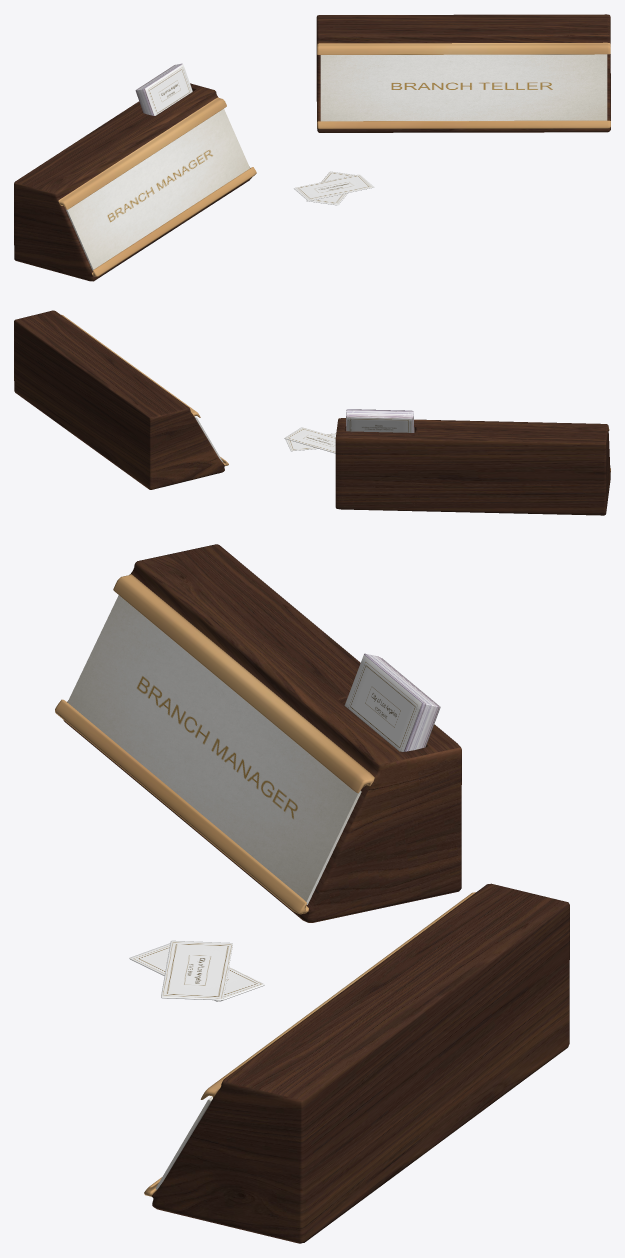
Rendered from Robbers_T3ANI210_DeskNamePlaque_Abdilla.fbx.
3 views of the same model, one above another, from view 1: azimuth 30°, elevation 25°; view 2: azimuth 150°, elevation 25°; view 3: azimuth 270°, elevation 25° (orthographic). The views are drawn at different scales.
Visible parts, largest first — view 1: NameBadge_3, NameHolder_2, NameHolder_1, NameBadge_1, BuisnessCard_Stack, BuisnessCard_3, BuisnessCard_2; view 2: NameHolder_1, NameHolder_2, BuisnessCard_Stack, BuisnessCard_3; view 3: NameHolder_2, NameHolder_1, NameBadge_1, BuisnessCard_Stack, BuisnessCard_3, BuisnessCard_2.
Part boxes in pixels (<box>): NameBadge_3: <box>320,54,607,121</box>; NameHolder_2: <box>316,14,610,132</box>; NameHolder_1: <box>14,83,256,281</box>; NameBadge_1: <box>65,109,249,270</box>; BuisnessCard_Stack: <box>135,63,192,115</box>; BuisnessCard_3: <box>293,174,374,200</box>; BuisnessCard_2: <box>306,171,355,205</box>; NameHolder_1: <box>335,418,610,515</box>; NameHolder_2: <box>14,310,228,489</box>; BuisnessCard_Stack: <box>346,409,414,432</box>; BuisnessCard_3: <box>284,427,335,453</box>; NameHolder_2: <box>144,883,569,1243</box>; NameHolder_1: <box>55,544,461,922</box>; NameBadge_1: <box>67,595,361,904</box>; BuisnessCard_Stack: <box>344,653,440,751</box>; BuisnessCard_3: <box>161,940,232,1000</box>; BuisnessCard_2: <box>129,943,264,1001</box>.
Bounding box in the file's own units: 29.71 × 4.69 × 11.61.
8 materials, 8 textured.
